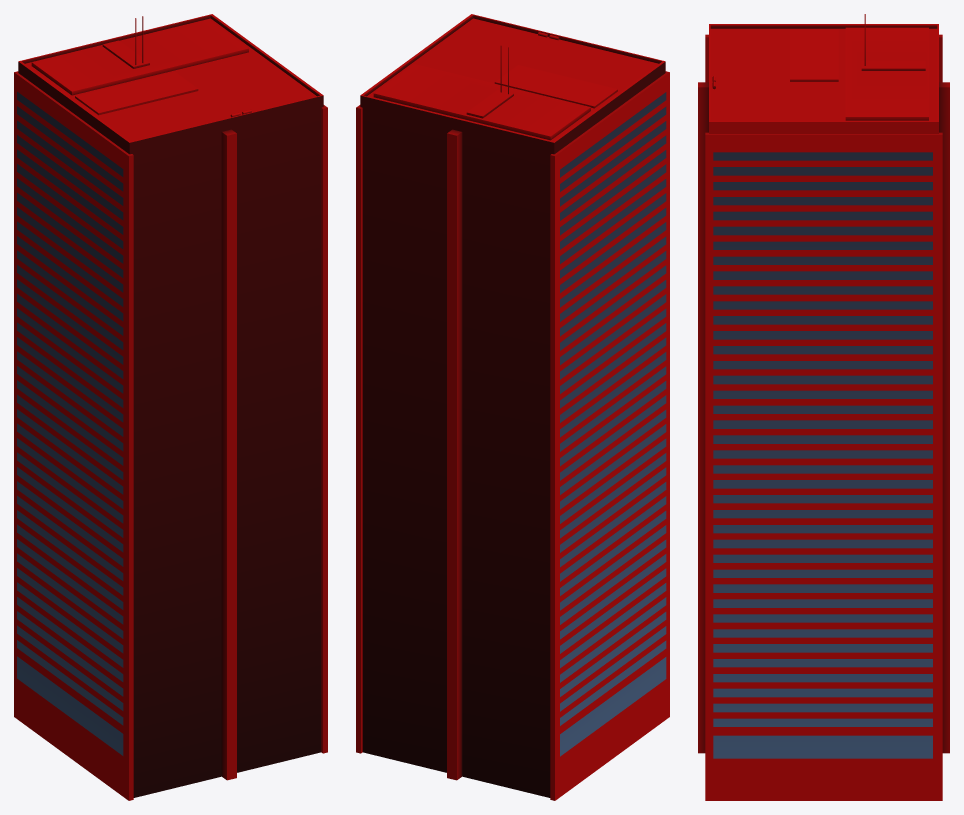
The model's file is buildings-industrial-traditionalskyscraper_v7.fbx.
The picture shows the model from 3 angles, left to right: view 1: azimuth 30°, elevation 25°; view 2: azimuth 150°, elevation 25°; view 3: azimuth 270°, elevation 25°; orthographic projection. The views are drawn at different scales.
Parts seen in each view (by area): view 1: TraditionalSkyscraper_v7_base, TraditionalSkyscraper_v7_windowRefl; view 2: TraditionalSkyscraper_v7_base, TraditionalSkyscraper_v7_windowRefl; view 3: TraditionalSkyscraper_v7_base, TraditionalSkyscraper_v7_windowRefl.
Boxes of the visible parts, x1,y1,x2,y2 form: TraditionalSkyscraper_v7_base: (14,14,327,800); TraditionalSkyscraper_v7_windowRefl: (17,91,123,755); TraditionalSkyscraper_v7_base: (356,14,669,800); TraditionalSkyscraper_v7_windowRefl: (560,92,666,756); TraditionalSkyscraper_v7_base: (698,14,949,800); TraditionalSkyscraper_v7_windowRefl: (713,152,932,758).
Size of the model in its own units: 21.21 by 71.2 by 22.29.
